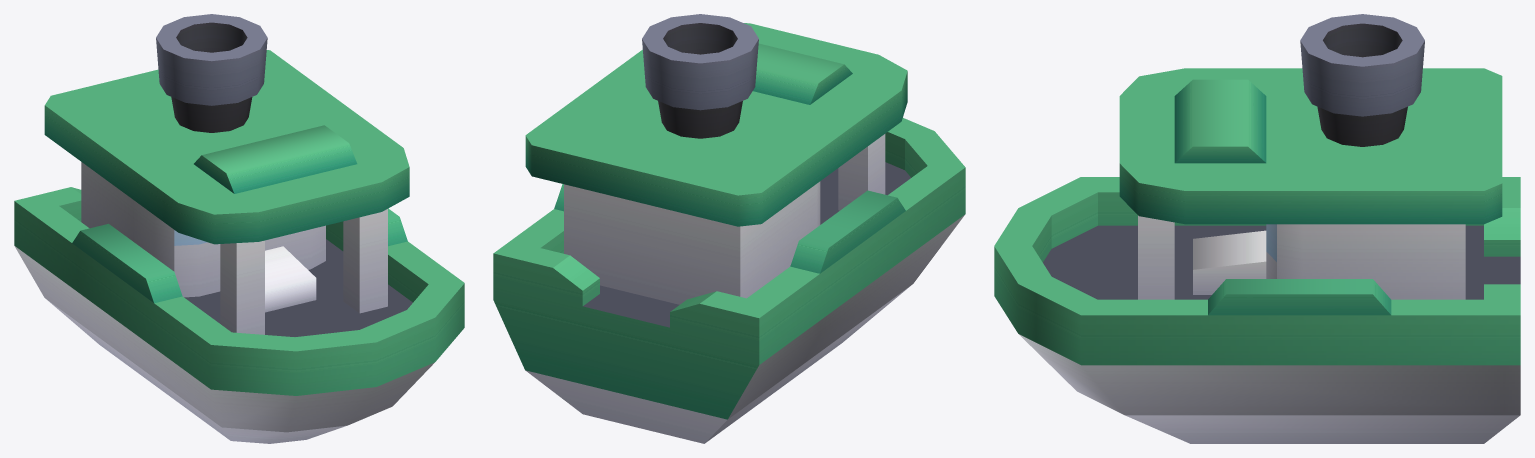
Rendered from boat-tug-b.glb.
3 views of the same model, side by side, from view 1: azimuth 30°, elevation 25°; view 2: azimuth 150°, elevation 25°; view 3: azimuth 270°, elevation 25° (orthographic). The views are drawn at different scales.
Visible parts, largest first — view 1: boat-tug-b; view 2: boat-tug-b; view 3: boat-tug-b.
Boxes of the visible parts, x1,y1,x2,y2 form: boat-tug-b: (14,14,464,443); boat-tug-b: (493,14,965,443); boat-tug-b: (994,14,1520,443).
Bounding box in the file's own units: 1.78 × 2.24 × 2.87.
1 material, 1 textured.
